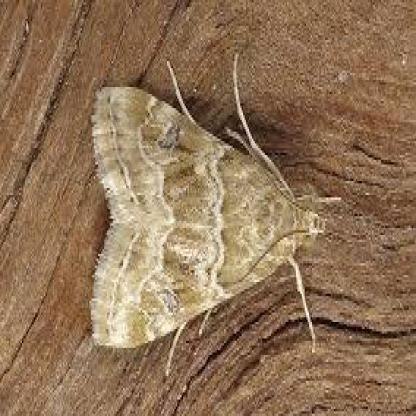Hellula undalis: (87, 47, 345, 387)
